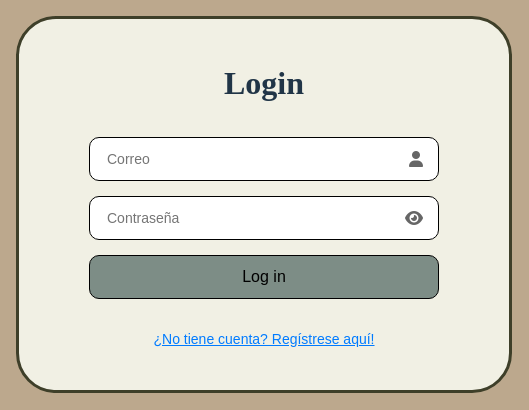
it: Login › muestra estado de carga durante el proceso de login
Type "test@correo.com" into the field with placeholder "Correo" at (252, 158), box [105, 150, 399, 168]
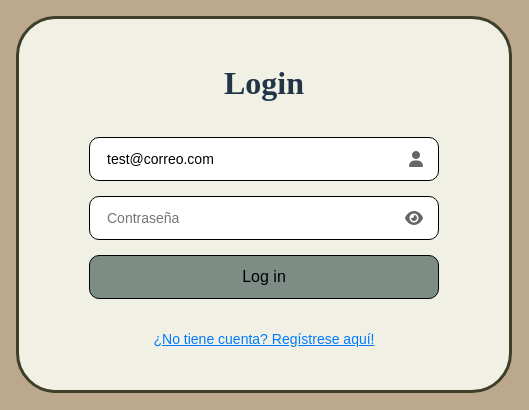
Type "password123" into the password field with placeholder "Contraseña" at (250, 218), box [105, 208, 395, 226]
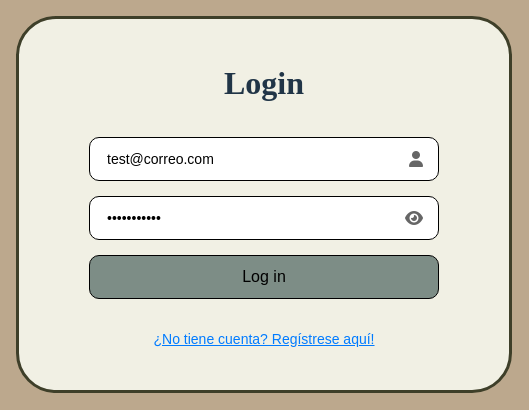
Click the button "Log in" at (264, 276), box [89, 254, 439, 298]
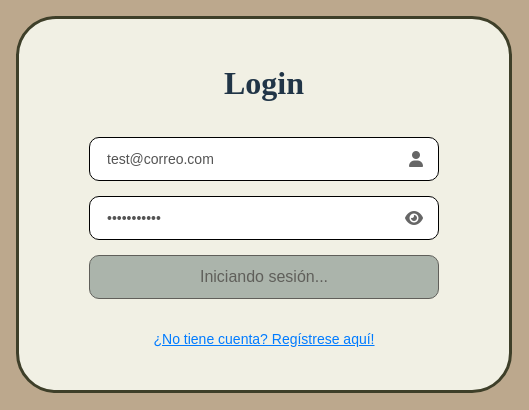
Result: the button "Iniciando sesión..." is disabled at [89, 254, 439, 298]
Result: the field with placeholder "Correo" is disabled at [105, 150, 399, 168]
Result: the password field with placeholder "Contraseña" is disabled at [105, 208, 395, 226]
